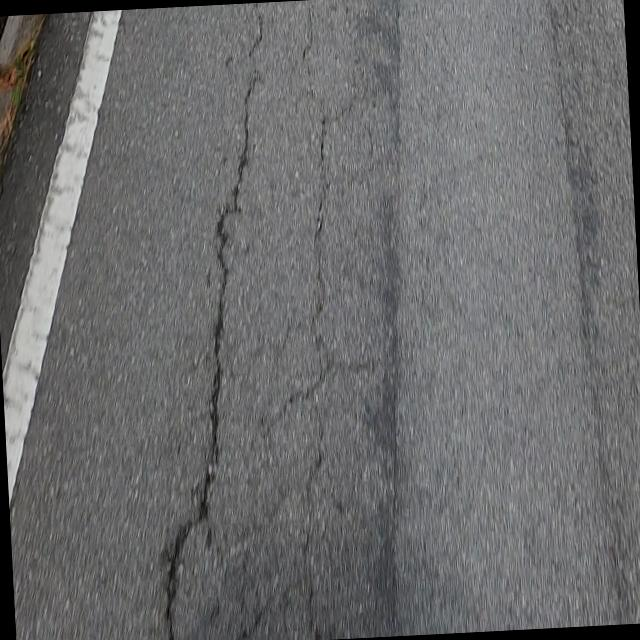Retak-Memanjang: (164, 3, 264, 640), (301, 1, 332, 638)
